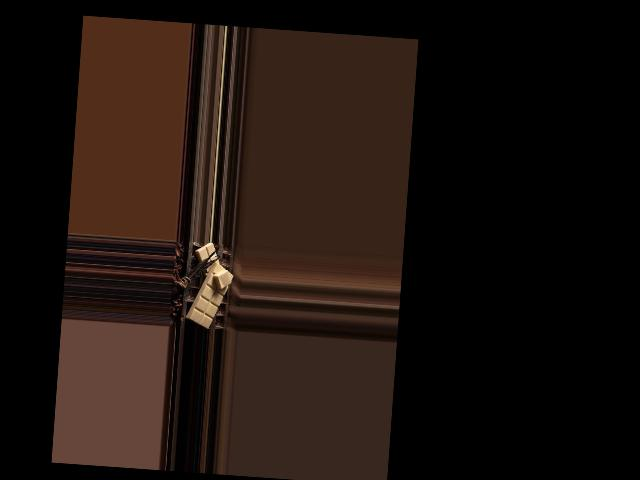chocolate: (186, 258, 233, 329)
